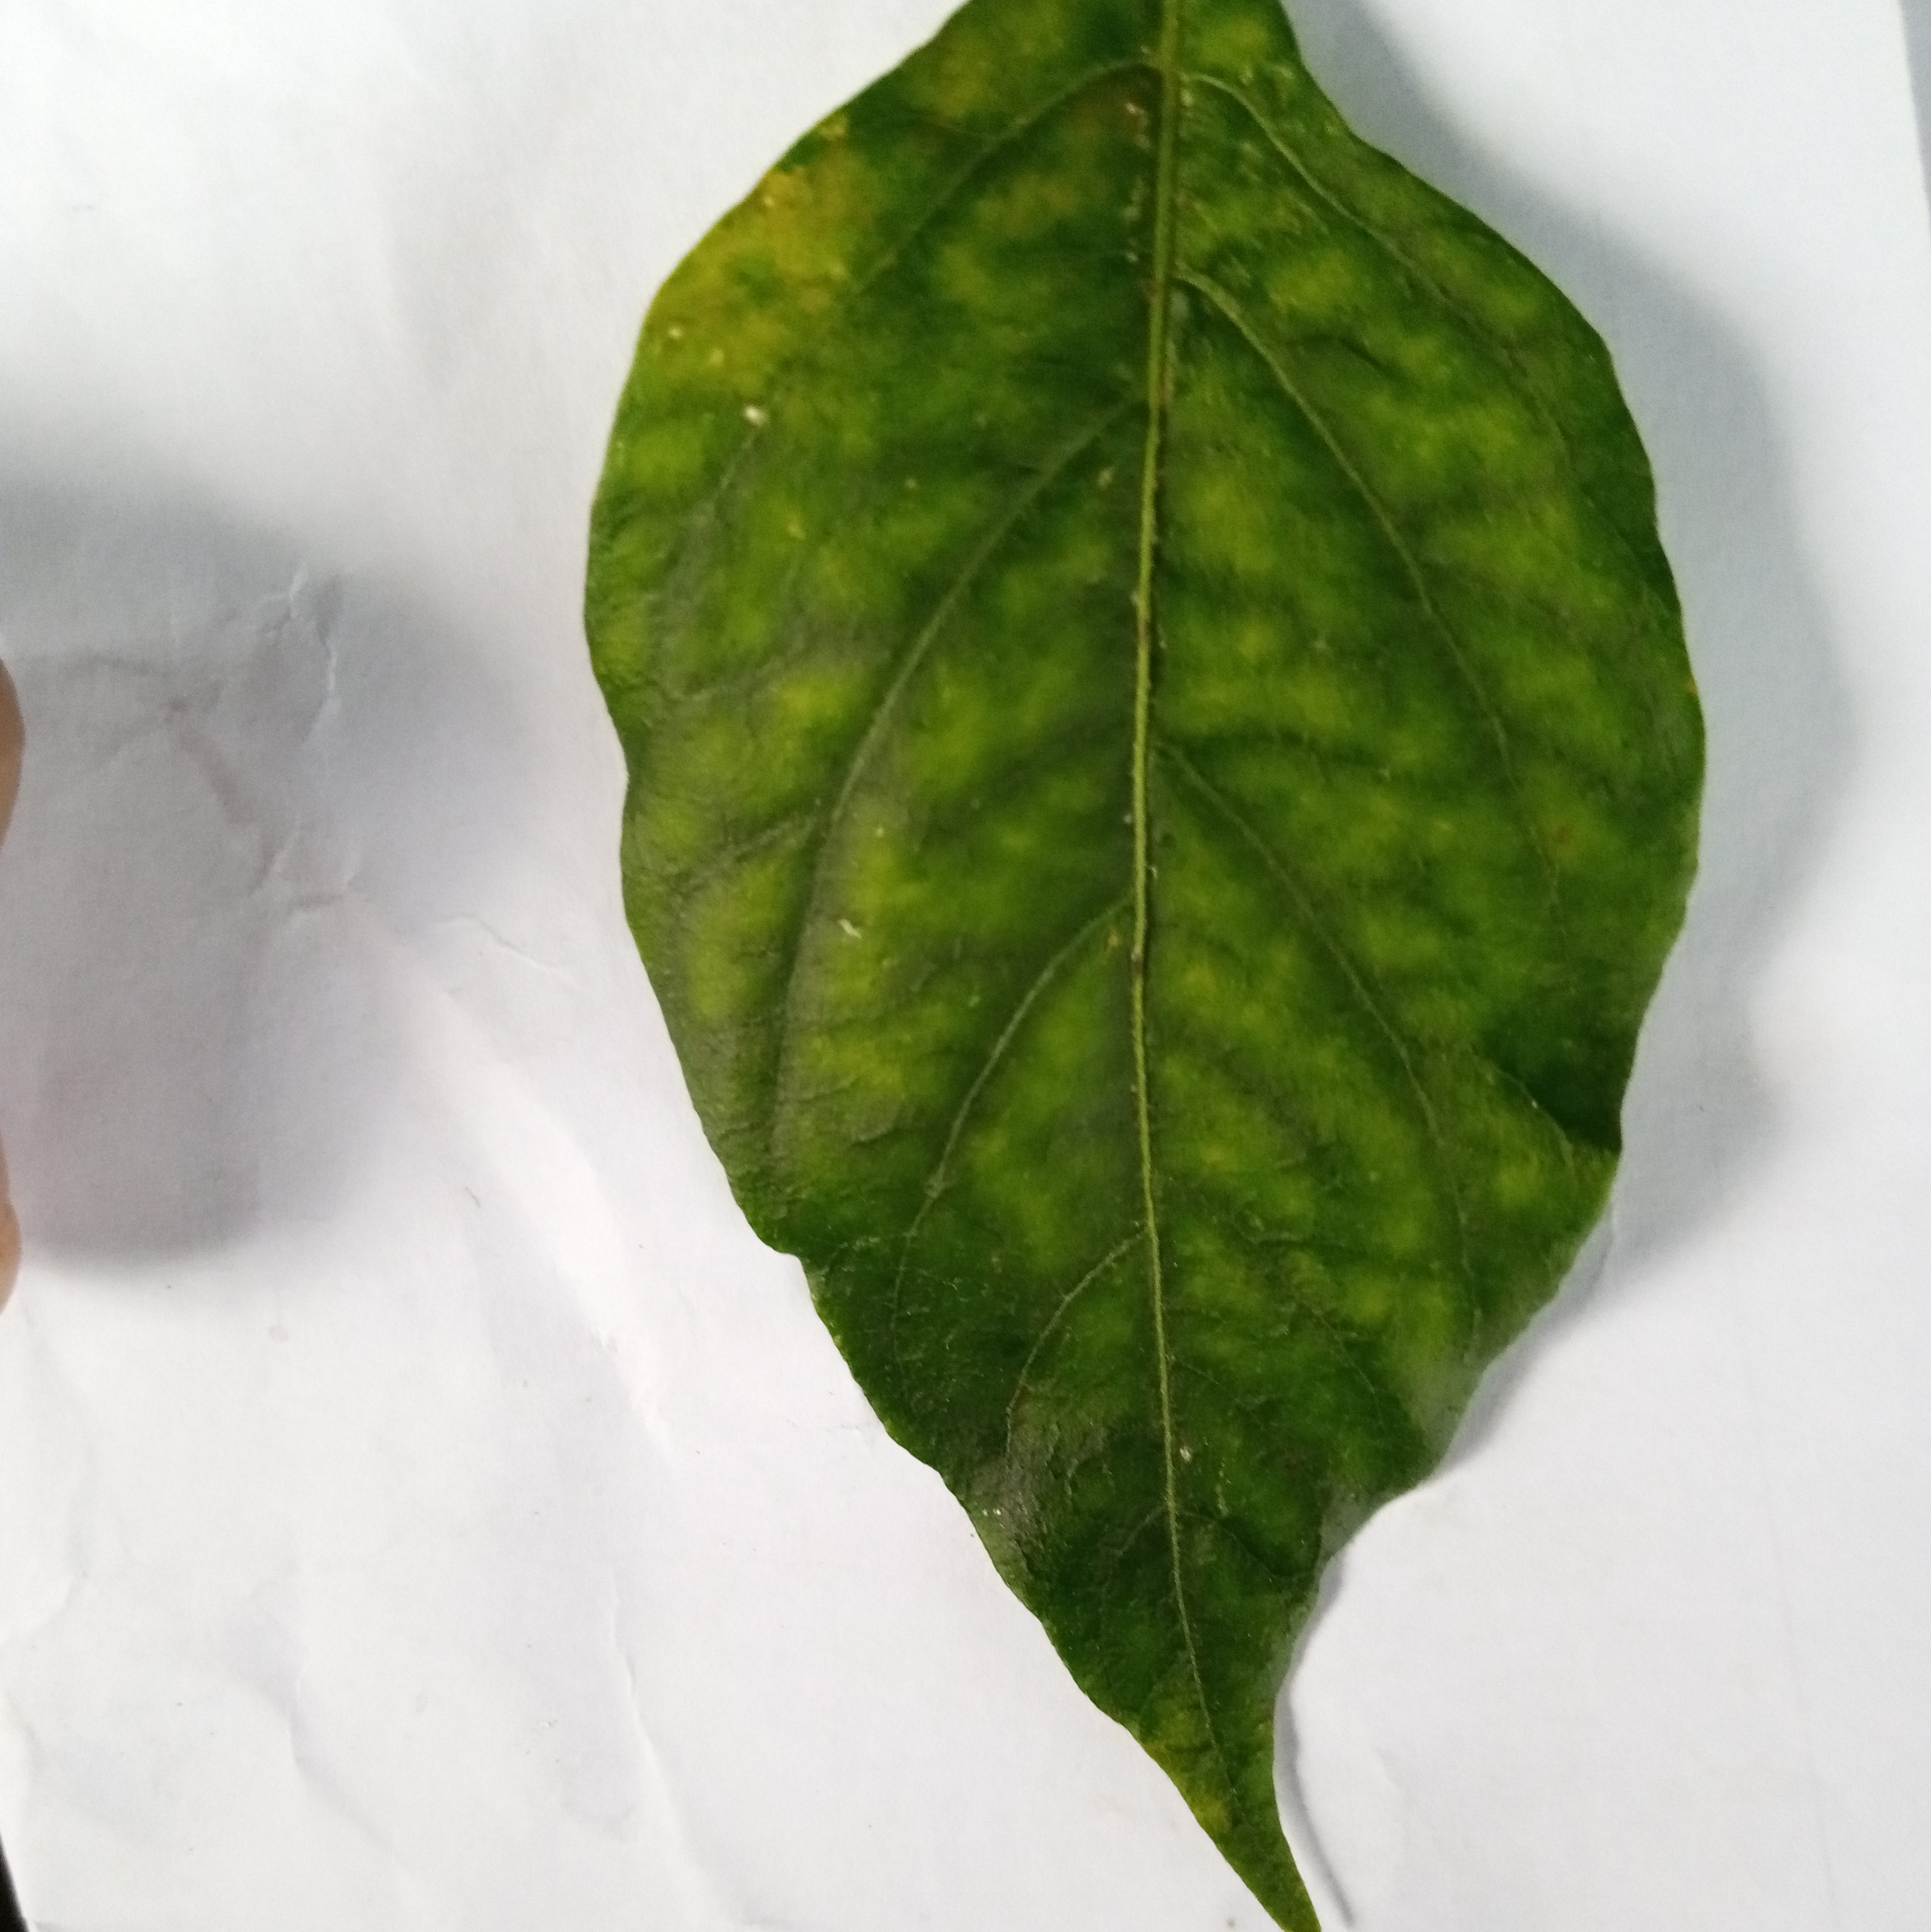Leaf: (444, 2, 1770, 1932)
